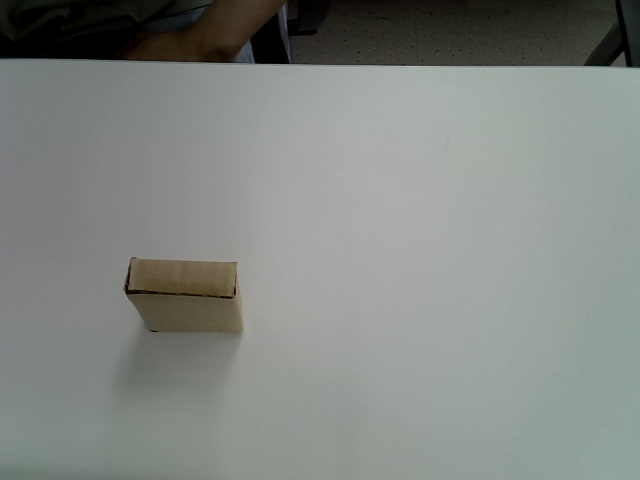normal: (123, 258, 244, 336)
